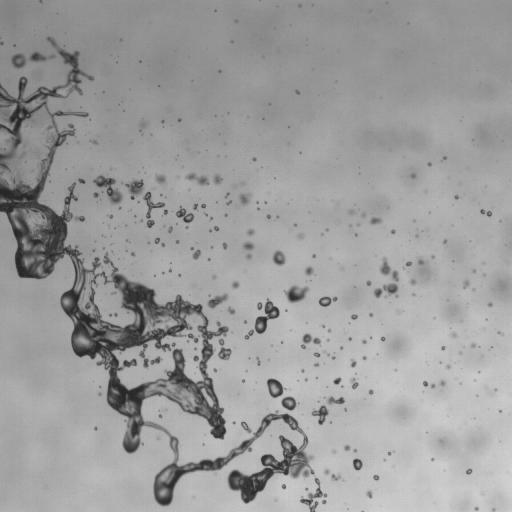droplet: (374, 257, 398, 297), (300, 477, 327, 511), (284, 285, 309, 303), (266, 378, 286, 398), (311, 405, 328, 425), (301, 333, 321, 349), (176, 207, 193, 223), (11, 53, 26, 68), (272, 250, 285, 265), (318, 296, 337, 306), (239, 193, 251, 205), (352, 458, 362, 470), (191, 247, 200, 259), (155, 174, 165, 184), (213, 174, 222, 185), (242, 241, 253, 250), (350, 378, 358, 388), (370, 217, 381, 224), (305, 266, 313, 275), (331, 474, 341, 480), (227, 307, 235, 314), (333, 377, 341, 384), (232, 281, 239, 288), (246, 229, 254, 235), (463, 280, 469, 288), (350, 359, 356, 367), (366, 490, 372, 498), (466, 468, 472, 474), (373, 474, 379, 480), (140, 121, 145, 128), (91, 139, 97, 144), (78, 178, 84, 183), (93, 192, 99, 197), (348, 209, 354, 214), (298, 233, 304, 238), (154, 237, 159, 243), (222, 242, 227, 248), (246, 254, 252, 259), (418, 259, 424, 264), (405, 261, 411, 266), (410, 279, 415, 285), (351, 314, 357, 319), (470, 342, 475, 348), (313, 352, 319, 357), (344, 445, 350, 450), (366, 280, 371, 285), (451, 332, 456, 337), (423, 381, 428, 386), (440, 380, 445, 385), (324, 469, 329, 474), (193, 204, 197, 209), (168, 227, 172, 232), (446, 364, 450, 369), (368, 390, 373, 394), (387, 451, 392, 455), (252, 157, 256, 161), (427, 162, 431, 166), (411, 174, 415, 178), (454, 195, 458, 199), (201, 204, 205, 208), (163, 210, 167, 214), (361, 213, 365, 217), (108, 214, 112, 218), (266, 214, 270, 218), (214, 226, 218, 230), (391, 229, 395, 233), (131, 252, 135, 256), (488, 302, 492, 306), (397, 310, 401, 314), (498, 331, 502, 335), (381, 337, 385, 341), (362, 339, 366, 343), (441, 346, 445, 350), (282, 484, 286, 488), (431, 383, 434, 388), (225, 193, 228, 197), (227, 201, 231, 204), (443, 239, 446, 243), (212, 275, 215, 279), (314, 363, 318, 366), (213, 368, 216, 372), (158, 414, 162, 417), (296, 90, 299, 93), (443, 156, 446, 159), (161, 243, 164, 246), (369, 313, 372, 316), (98, 392, 101, 395), (431, 458, 434, 461), (475, 507, 478, 510), (0, 42, 3, 44), (224, 214, 227, 216), (326, 228, 328, 231), (312, 255, 315, 257), (168, 269, 171, 271), (472, 270, 475, 272), (348, 338, 351, 340), (332, 356, 334, 359), (363, 356, 365, 359), (94, 427, 97, 429), (492, 509, 495, 511), (219, 70, 221, 72), (294, 224, 296, 226), (431, 255, 433, 257), (178, 274, 180, 276), (328, 329, 330, 331), (326, 352, 328, 354), (459, 352, 461, 354), (494, 388, 496, 390), (157, 437, 159, 439), (354, 449, 356, 451), (333, 450, 335, 452)
ligament: (0, 37, 313, 505), (125, 179, 164, 227), (244, 298, 279, 339), (93, 175, 123, 204), (207, 293, 228, 308), (185, 173, 209, 185), (29, 52, 55, 61), (326, 396, 344, 404), (480, 209, 491, 216), (256, 357, 260, 364), (109, 313, 117, 316)
